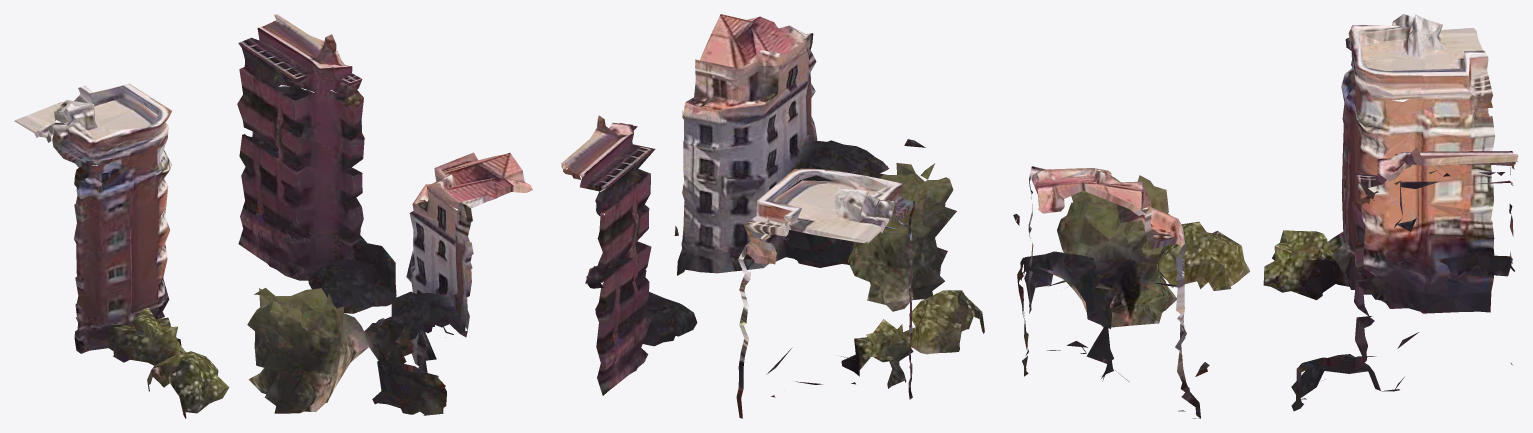
3 renders of one model, left to right at view 1: azimuth 30°, elevation 25°; view 2: azimuth 150°, elevation 25°; view 3: azimuth 270°, elevation 25°, orthographic. The views are drawn at different scales.
Visible parts, largest first — view 1: Mesh_0; view 2: Mesh_0; view 3: Mesh_0.
Boxes of the visible parts, left/top/right/bottom form: Mesh_0: left=14, top=14, right=532, bottom=418; Mesh_0: left=561, top=14, right=984, bottom=418; Mesh_0: left=1013, top=14, right=1518, bottom=418.
Size of the model in its own units: 33.31 by 23.16 by 40.25.
Materials: 2 (2 with a texture image).
